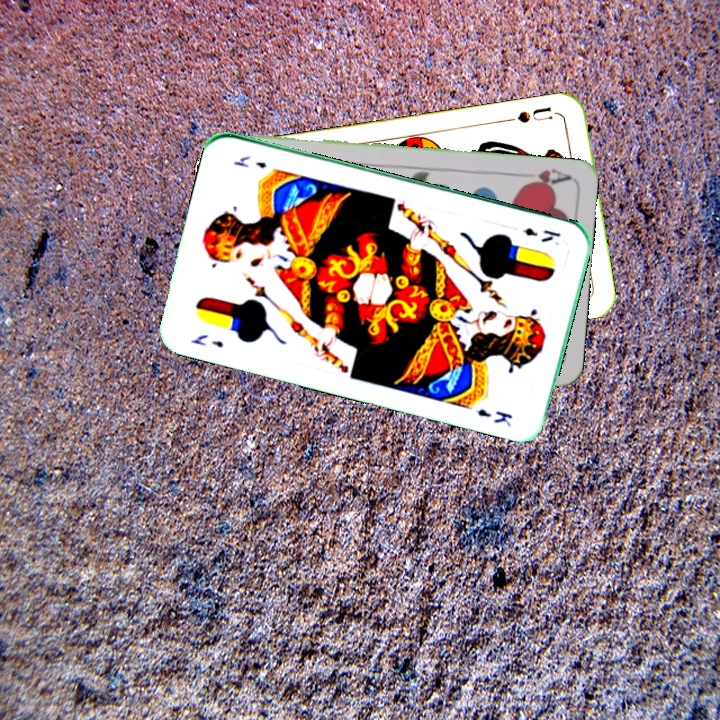EK: (520, 223, 563, 245), (187, 330, 226, 351)
HA: (513, 164, 572, 191)
SU: (503, 103, 562, 126)
